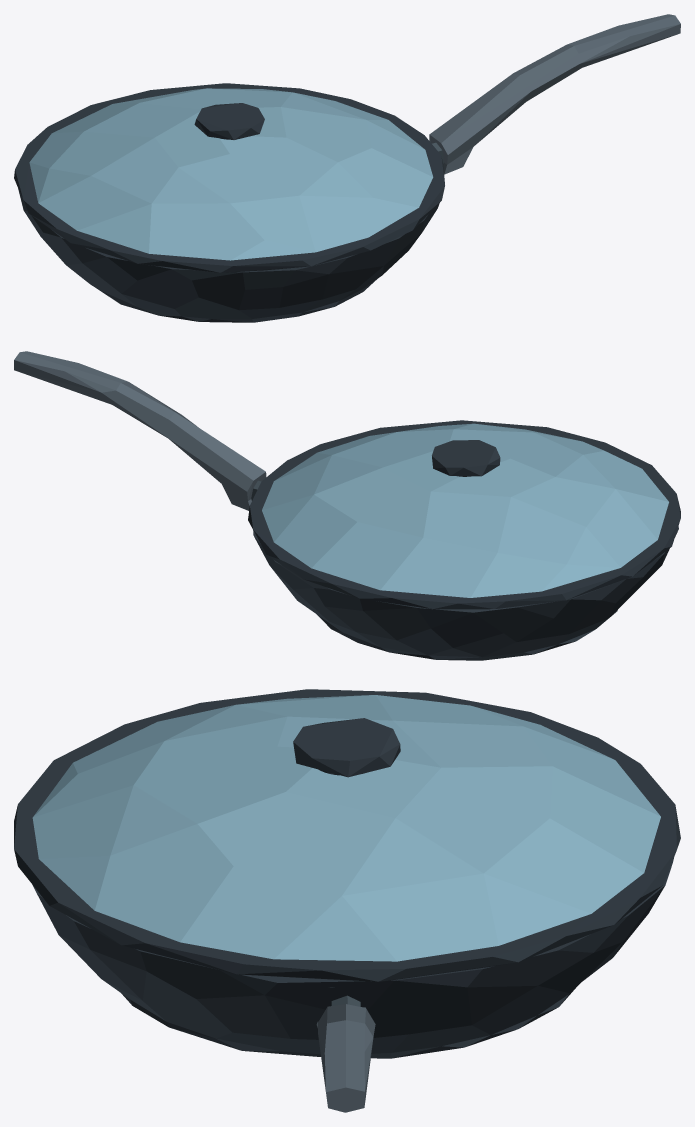
The model's file is Pan01.fbx.
3 renders of one model, top to bottom at view 1: azimuth 30°, elevation 25°; view 2: azimuth 150°, elevation 25°; view 3: azimuth 270°, elevation 25°, orthographic. The views are drawn at different scales.
Parts seen in each view (by area): view 1: Pan01LidLowPoly, Pan01LowPoly; view 2: Pan01LidLowPoly, Pan01LowPoly; view 3: Pan01LidLowPoly, Pan01LowPoly.
Part boxes in pixels (x1,y1,x2,y2): Pan01LidLowPoly: (14, 83, 444, 272); Pan01LowPoly: (18, 14, 680, 322); Pan01LidLowPoly: (248, 420, 680, 609); Pan01LowPoly: (14, 351, 678, 660); Pan01LidLowPoly: (14, 689, 680, 987); Pan01LowPoly: (32, 858, 673, 1112).
Size of the model in its own units: 53.84 by 11.54 by 31.81.
